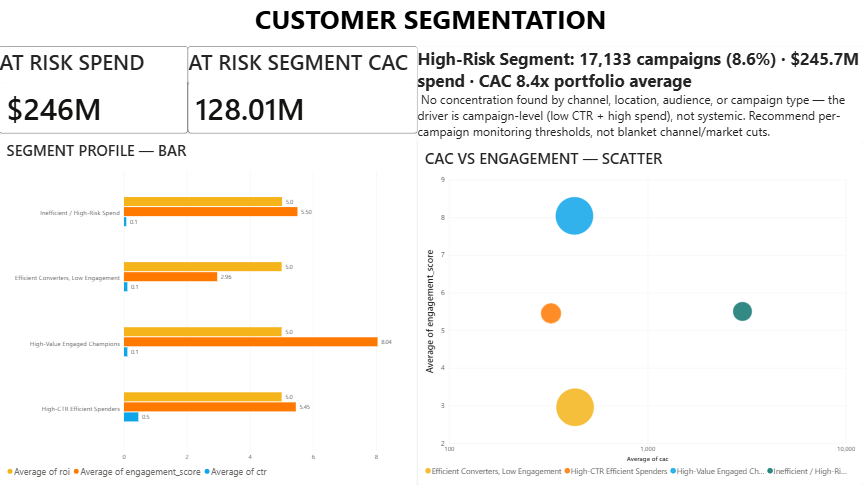

The page's visual inventory and layout, read from the dashboard file:
{"tool":"powerbi","page":{"name":"CUSTOMER SEGMENTATION","canvas":[1920,1080],"ordinal":3},"visuals":[{"type":"clusteredBarChart","title":"SEGMENT PROFILE — BAR","fields":{"Category":["campaign_with_segments.segment_name"],"Y":["Avg(campaign_with_segments.roi)","Avg(campaign_with_segments.engagement_score)","Avg(campaign_with_segments.ctr)"]},"box":[0,295.2,929.6,785.6],"z":0},{"type":"scatterChart","title":"CAC VS ENGAGEMENT —  SCATTER","fields":{"X":["Avg(campaign_with_segments.cac)"],"Y":["Avg(campaign_with_segments.engagement_score)"],"Series":["campaign_with_segments.segment_name"],"Size":["CountNonNull(campaign_with_segments.campaign_id)"]},"box":[929.6,314.7,990.6,766.1],"z":1000},{"type":"cardVisual","title":"AT RISK SPEND","fields":{"Data":["Key Measures.Total Spend"]},"box":[0,102.5,419.6,192.7],"z":2000},{"type":"cardVisual","title":"AT RISK SEGMENT CAC","fields":{"Data":["Sum(campaign_with_segments.cac)"]},"box":[419.6,102.5,509.9,192.7],"z":3000},{"type":"textbox","box":[0,0,1919.1,102],"z":4000},{"type":"textbox","box":[929.6,102.5,990.6,212.3],"z":5000}]}

Visuals, with their boxes in screenshot pixels (x1, y1, x2, y2), scaled from the page's 1920x1080 canvas onto the 863x485 screenshot:
"SEGMENT PROFILE — BAR" clusteredBarChart: (0,133,418,484)
"CAC VS ENGAGEMENT —  SCATTER" scatterChart: (418,141,862,484)
"AT RISK SPEND" cardVisual: (0,46,189,133)
"AT RISK SEGMENT CAC" cardVisual: (189,46,418,133)
textbox: (0,0,862,46)
textbox: (418,46,862,141)
